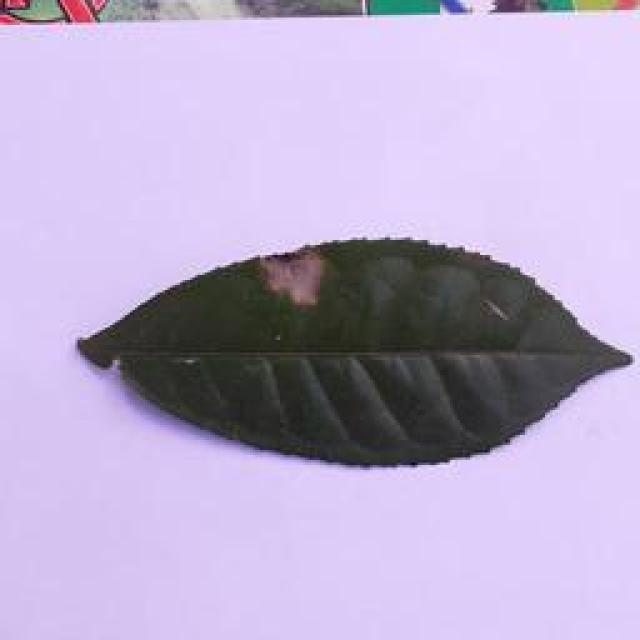Gray Blight: (71, 232, 636, 470)
